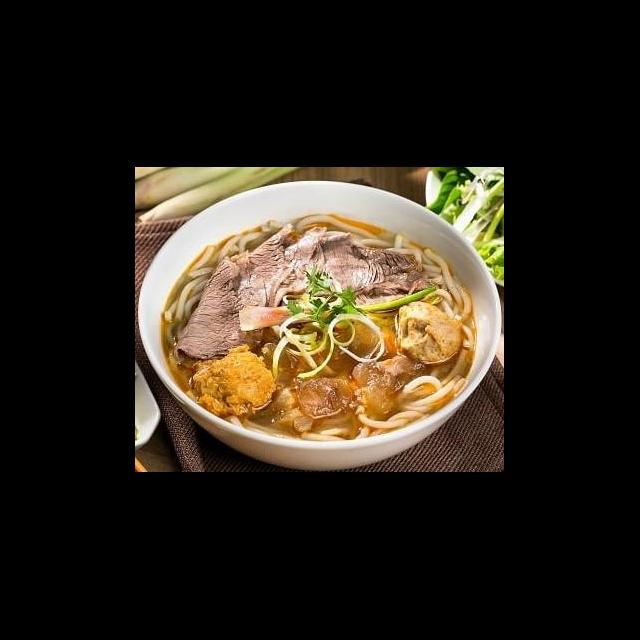bun: (296, 366, 469, 451), (391, 230, 478, 354), (160, 242, 218, 350), (294, 208, 396, 250), (208, 216, 286, 268)
bun bo: (154, 191, 488, 453)
thit bo: (174, 246, 270, 372), (314, 230, 436, 310), (226, 220, 296, 316)
